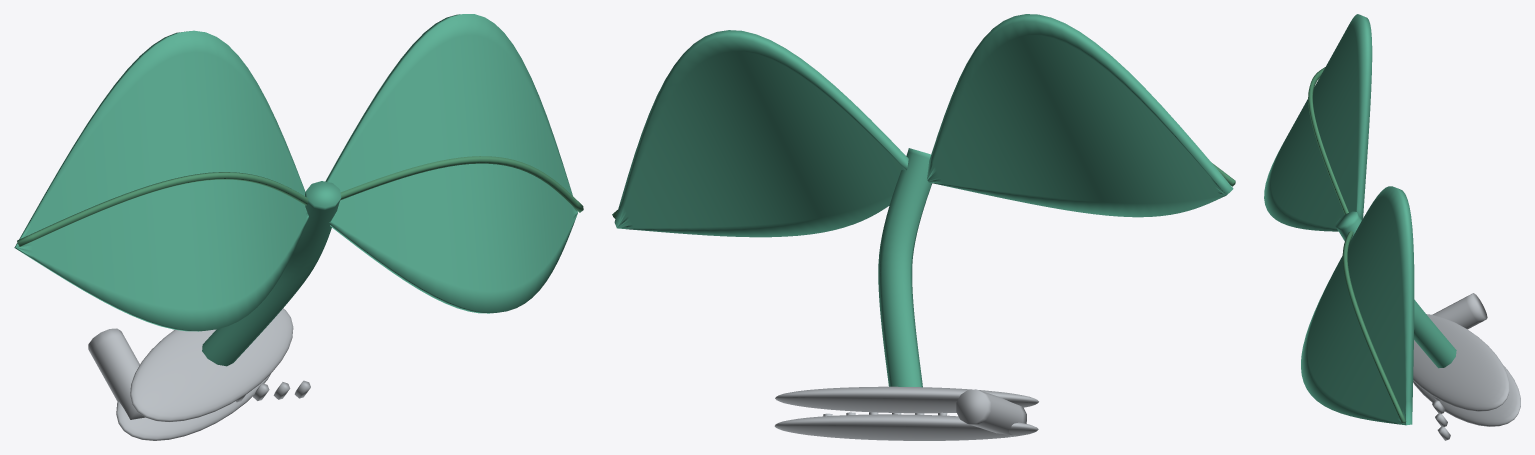
The model's file is Masculine-flow-headband252-sprout.glb.
3 renders of one model, left to right at view 1: azimuth 30°, elevation 25°; view 2: azimuth 150°, elevation 25°; view 3: azimuth 270°, elevation 25°, orthographic. The views are drawn at different scales.
Parts seen in each view (by area): view 1: 226 extra / Accessory / mint226, 226 extra / Sprout / clip silver235, 226 extra / Sprout / leaf vein235; view 2: 226 extra / Accessory / mint226, 226 extra / Sprout / clip silver235; view 3: 226 extra / Accessory / mint226, 226 extra / Sprout / clip silver235, 226 extra / Sprout / leaf vein235.
Boxes of the visible parts, x1=… form: 226 extra / Accessory / mint226: x1=14, y1=14, x2=577, y2=366; 226 extra / Sprout / clip silver235: x1=88, y1=308, x2=310, y2=440; 226 extra / Sprout / leaf vein235: x1=17, y1=156, x2=583, y2=246; 226 extra / Accessory / mint226: x1=614, y1=14, x2=1233, y2=387; 226 extra / Sprout / clip silver235: x1=774, y1=386, x2=1038, y2=440; 226 extra / Accessory / mint226: x1=1264, y1=14, x2=1456, y2=425; 226 extra / Sprout / clip silver235: x1=1413, y1=293, x2=1520, y2=440; 226 extra / Sprout / leaf vein235: x1=1308, y1=67, x2=1406, y2=423.
Size of the model in its own units: 0.2622 by 0.1819 by 0.1201.
